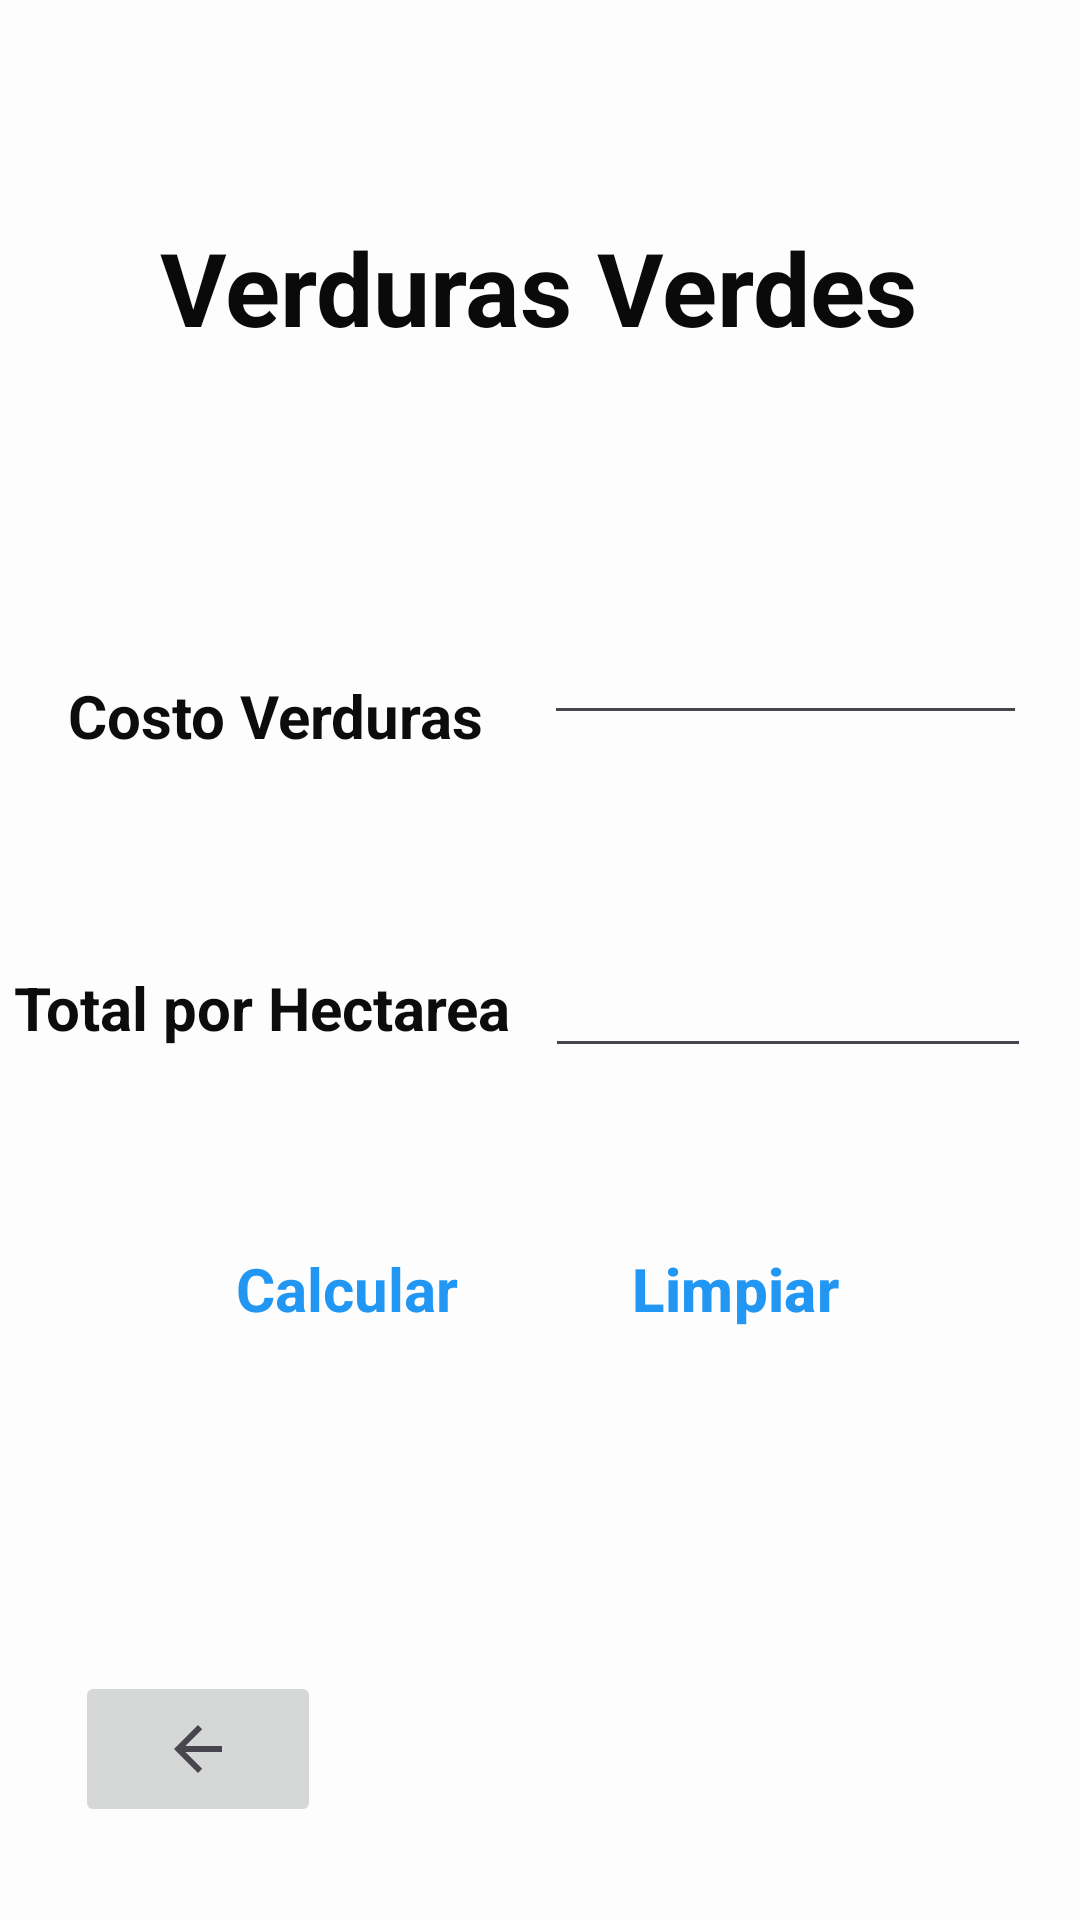

Screen size 1080 x 1920. Icon name, then its center in pixels as (x=x, y=y):
anterior: (x=198, y=1749)
